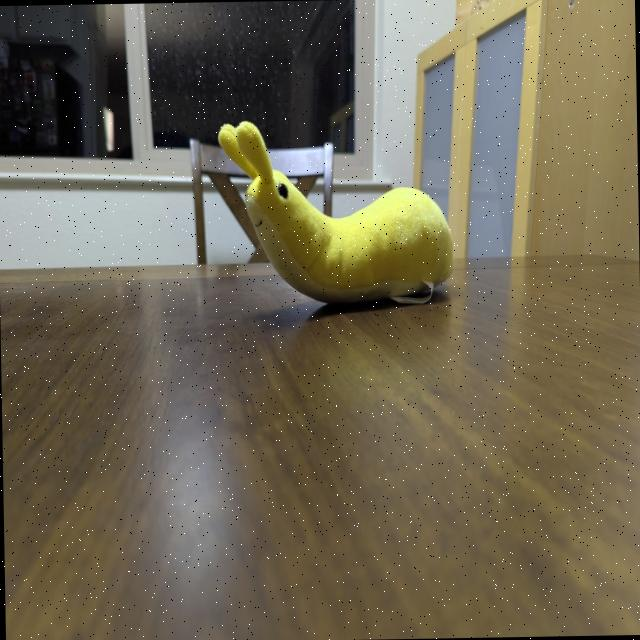banana-slug-toy: (212, 103, 470, 314)
